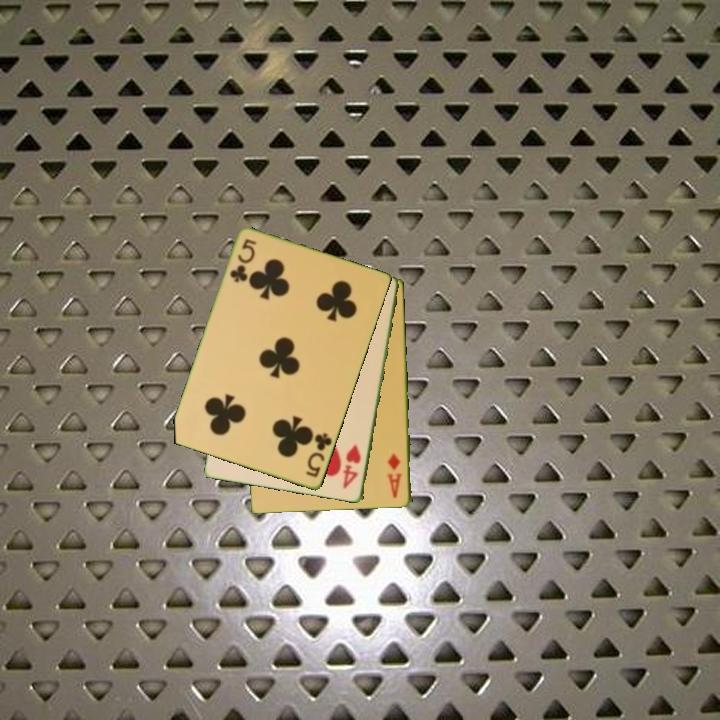4h: (340, 441, 364, 492)
5c: (226, 236, 259, 286), (303, 430, 335, 481)
Ad: (384, 450, 405, 502)
